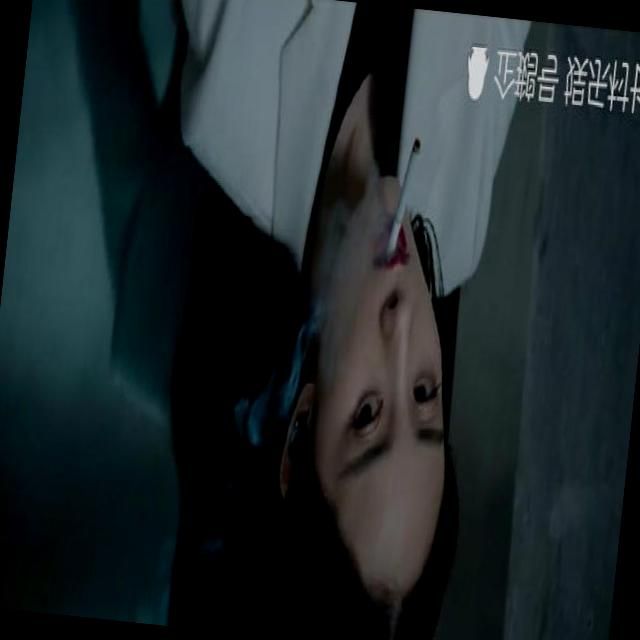smoke: (372, 128, 426, 284)
